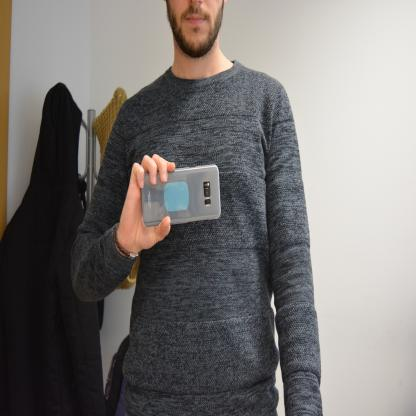smartphone: (140, 163, 222, 228)
